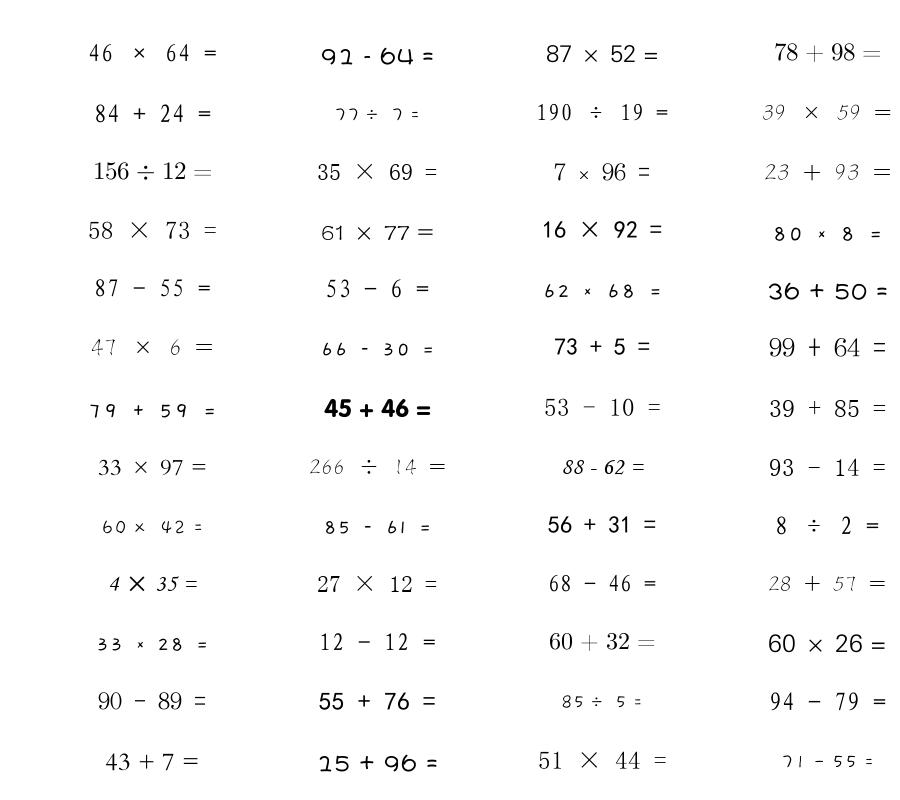MQ: (536, 103, 668, 121), (769, 337, 886, 357), (88, 44, 217, 62), (88, 221, 217, 239), (538, 751, 667, 769), (768, 634, 886, 653), (94, 104, 211, 123), (769, 692, 886, 711), (91, 338, 213, 356), (309, 459, 446, 475), (767, 282, 888, 300), (317, 754, 438, 772), (764, 164, 891, 181), (93, 162, 212, 180), (774, 43, 881, 63), (324, 398, 431, 418), (94, 279, 211, 297), (544, 398, 661, 416), (769, 458, 886, 476), (319, 633, 436, 651), (319, 692, 436, 710), (762, 104, 892, 120), (317, 163, 437, 180), (542, 221, 662, 238), (317, 575, 437, 592), (321, 47, 434, 65), (546, 45, 659, 63), (549, 632, 656, 651), (769, 400, 886, 417), (325, 279, 429, 298), (775, 516, 879, 535), (548, 574, 656, 592), (98, 692, 206, 710), (768, 576, 886, 592), (98, 459, 207, 476), (548, 516, 656, 533), (88, 404, 217, 418), (554, 163, 650, 181), (321, 225, 434, 240), (105, 753, 199, 771), (542, 284, 662, 298), (772, 226, 883, 241), (554, 338, 650, 355), (320, 342, 435, 356), (101, 520, 203, 535), (323, 520, 432, 534), (96, 638, 209, 651), (108, 576, 197, 592), (781, 755, 874, 769), (561, 460, 644, 475), (334, 108, 420, 122), (561, 695, 643, 709)
